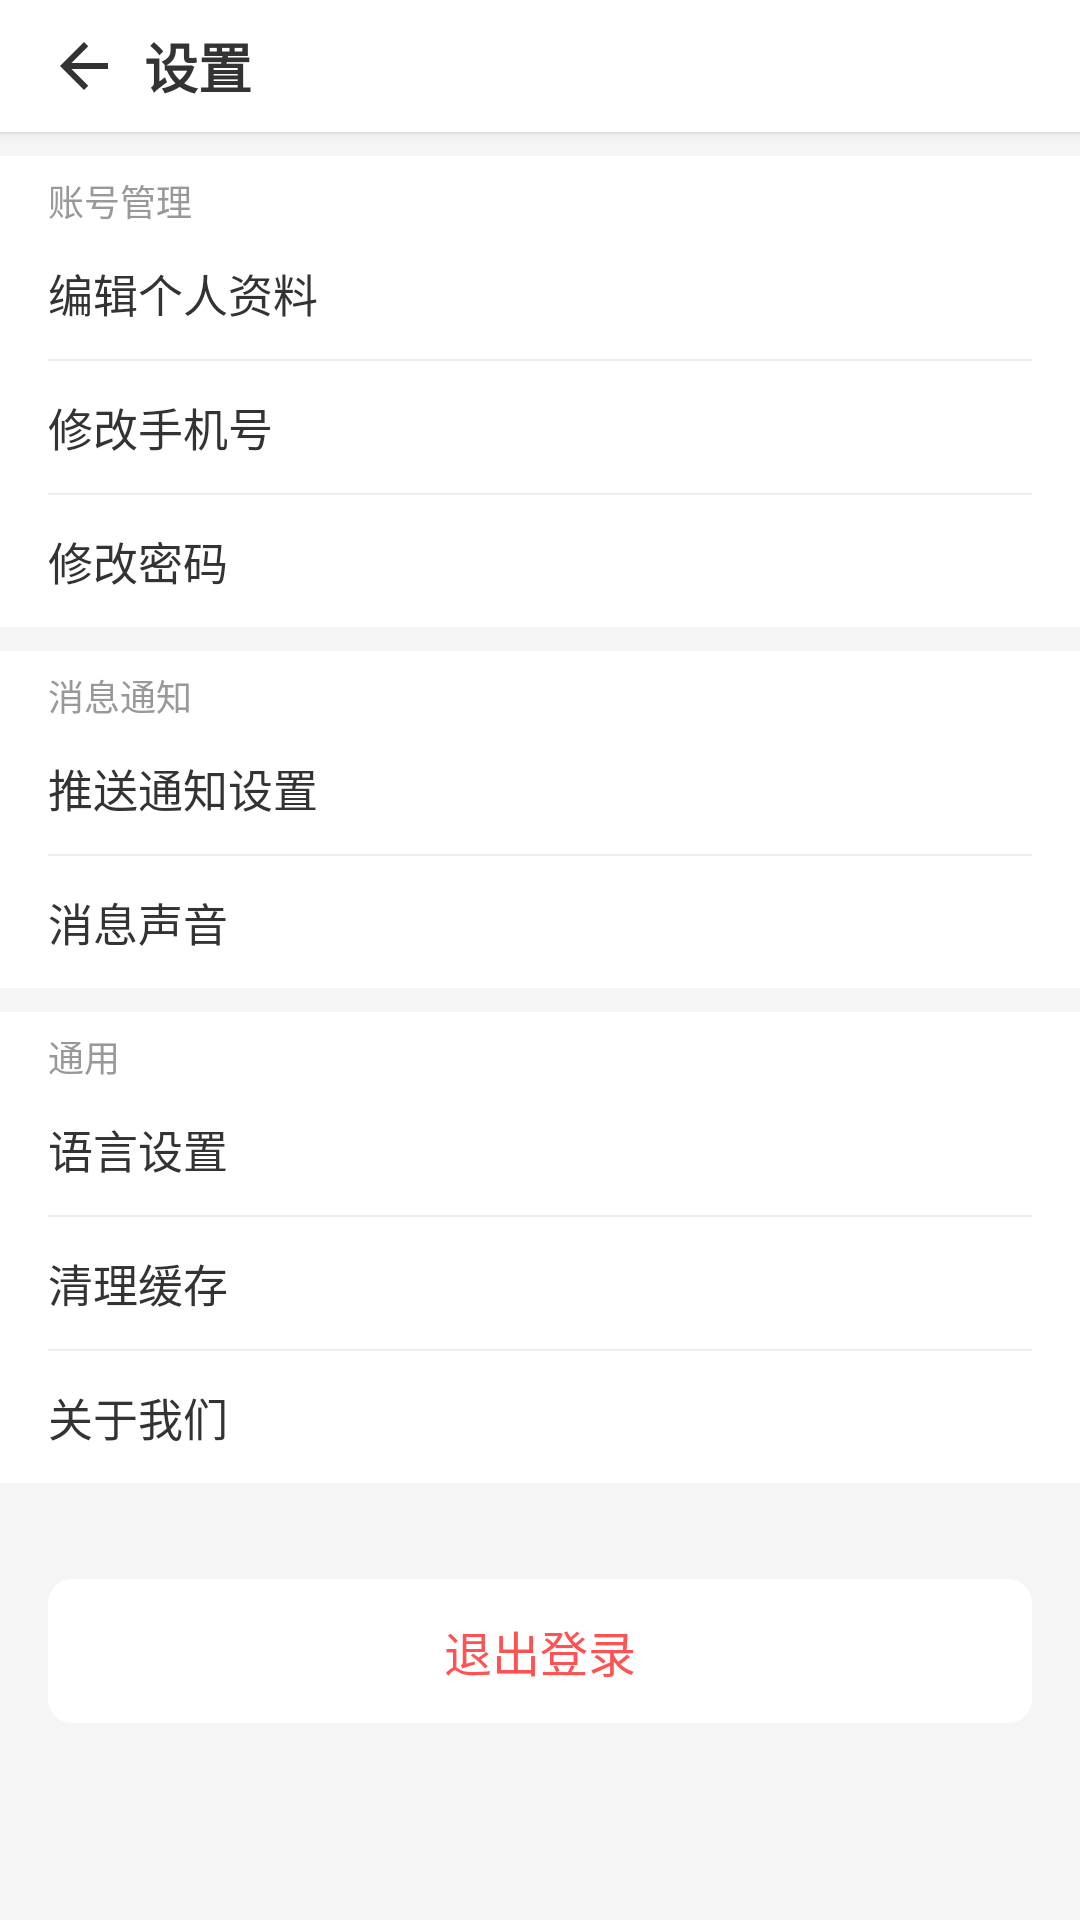

Icons on this 1080 x 1920 Android screen, each with its box as detection(x1, y1, x2, y2):
arrow back: detection(60, 42, 108, 90)
